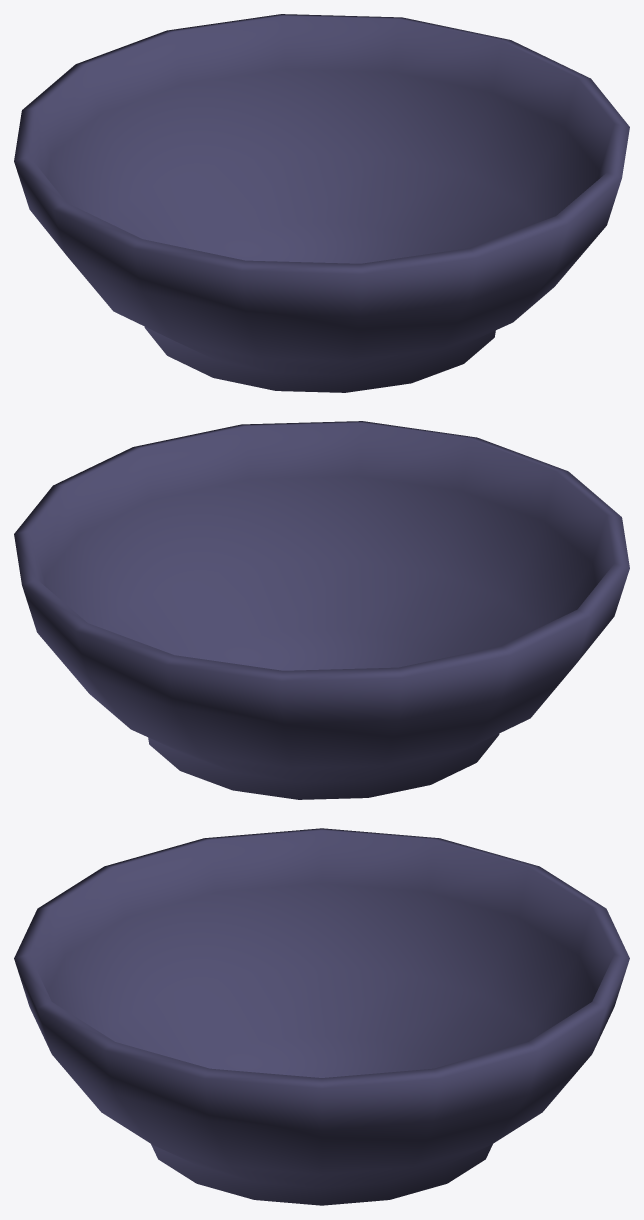
File: Bowl.fbx
3 renders of one model, top to bottom at view 1: azimuth 30°, elevation 25°; view 2: azimuth 150°, elevation 25°; view 3: azimuth 270°, elevation 25°, orthographic.
Parts seen in each view (by area): view 1: Circle.007; view 2: Circle.007; view 3: Circle.007.
Boxes of the visible parts, x1,y1,x2,y2 form: Circle.007: [14, 14, 629, 392]; Circle.007: [14, 421, 629, 799]; Circle.007: [14, 828, 629, 1205].
Bounding box in the file's own units: 125 × 39.61 × 125.
